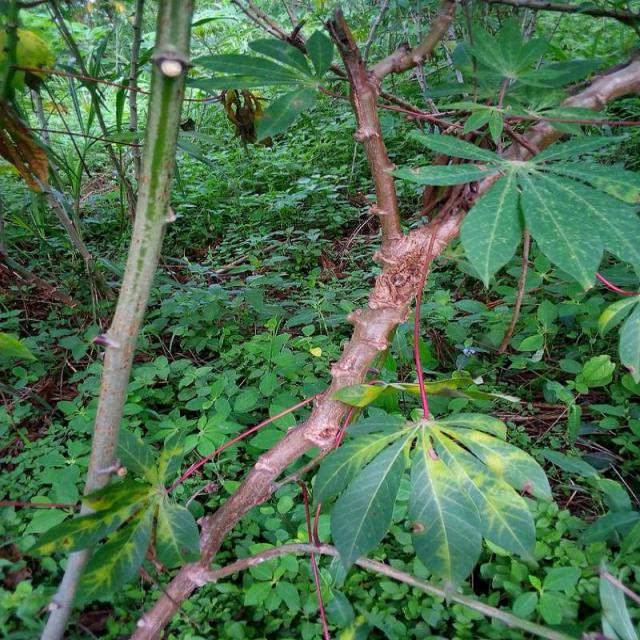cassava leaf: (313, 398, 553, 591), (330, 426, 414, 578), (409, 428, 485, 589), (459, 166, 525, 288)
